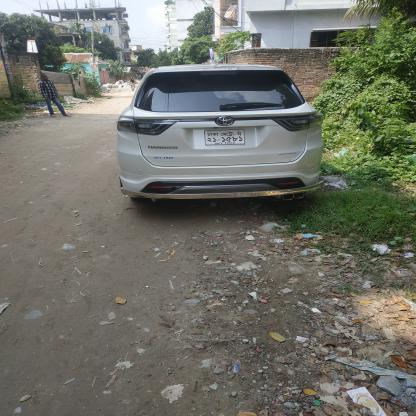license_plate: (201, 130, 246, 145)
